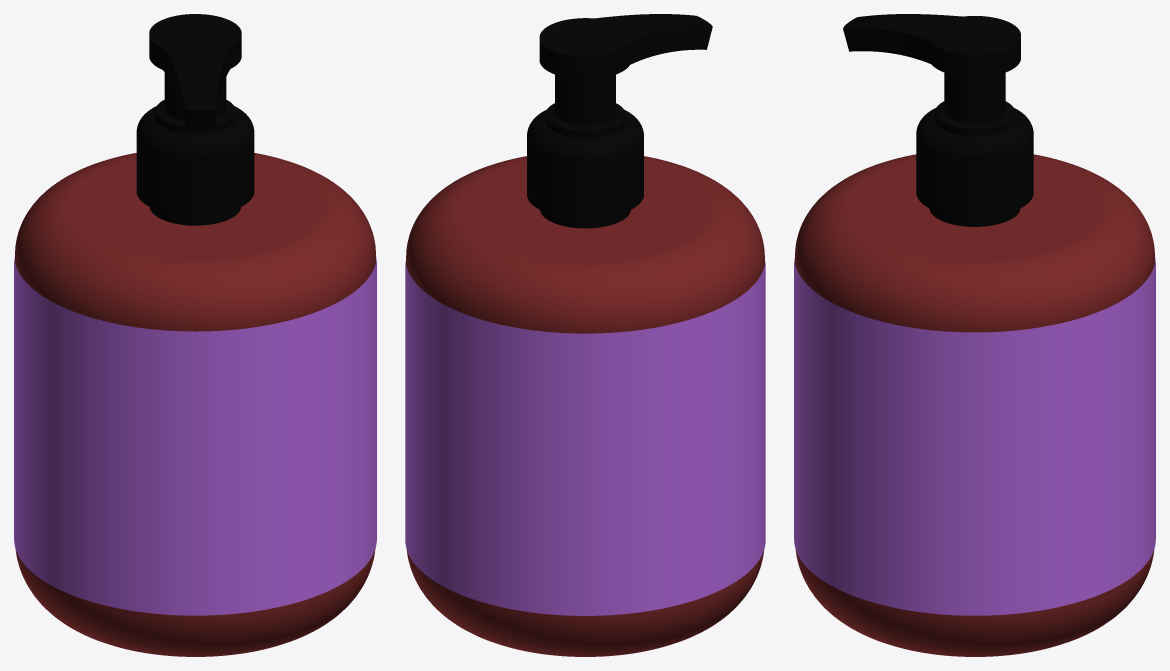
The model's file is goji.glb.
3 views of the same model, side by side, from view 1: azimuth 30°, elevation 25°; view 2: azimuth 150°, elevation 25°; view 3: azimuth 270°, elevation 25° (orthographic).
Visible parts, largest first — view 1: Naranja, Layer 01, Layer 03; view 2: Naranja, Layer 01, Layer 03; view 3: Naranja, Layer 01, Layer 03.
Part boxes in pixels (x1=…): Naranja: x1=14, y1=257, x2=376, y2=615; Layer 01: x1=15, y1=153, x2=375, y2=656; Layer 03: x1=136, y1=14, x2=254, y2=225; Naranja: x1=405, y1=261, x2=765, y2=615; Layer 01: x1=406, y1=156, x2=764, y2=656; Layer 03: x1=527, y1=14, x2=712, y2=228; Naranja: x1=794, y1=257, x2=1155, y2=615; Layer 01: x1=795, y1=154, x2=1154, y2=656; Layer 03: x1=843, y1=14, x2=1033, y2=226.
Size of the model in its own units: 0.1076 by 0.1869 by 0.1076.
